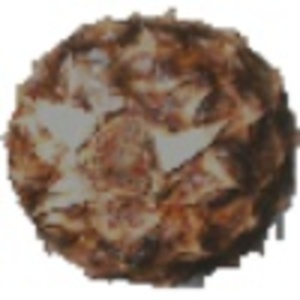abacaxi: (3, 14, 294, 283)
